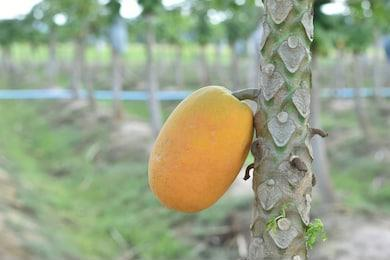papaya: (146, 84, 255, 212)
